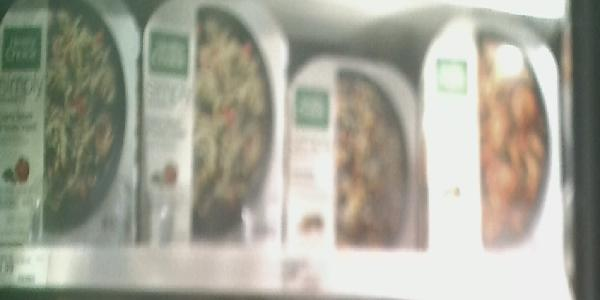pizza1: (139, 1, 285, 244), (418, 10, 561, 250), (1, 1, 139, 245), (288, 51, 418, 251)
